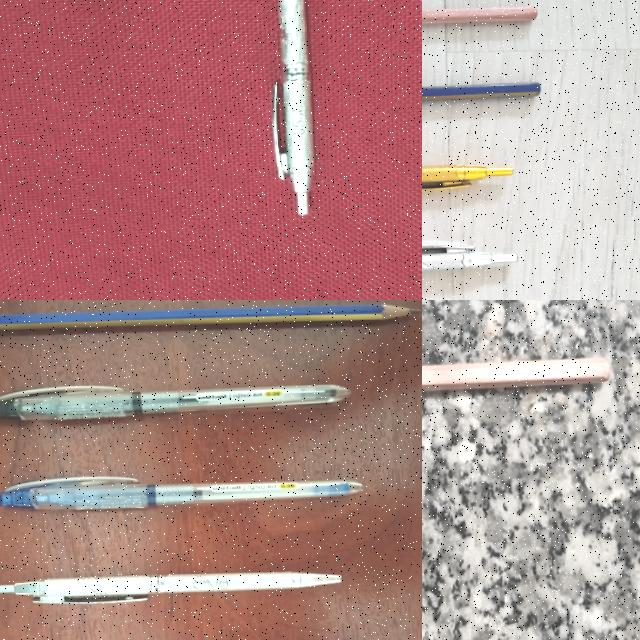pen: (0, 380, 353, 422), (0, 471, 344, 510)
pencil: (0, 304, 413, 330), (422, 358, 609, 391), (422, 7, 533, 32), (422, 86, 526, 111)
signature pen: (0, 567, 342, 604), (272, 0, 314, 214), (422, 242, 512, 278), (422, 161, 508, 192)
